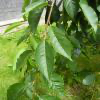Cherry leaf: (33, 36, 58, 86), (47, 24, 75, 63), (17, 1, 52, 20), (13, 49, 36, 75), (4, 82, 31, 99), (72, 70, 97, 88), (2, 21, 26, 36)
